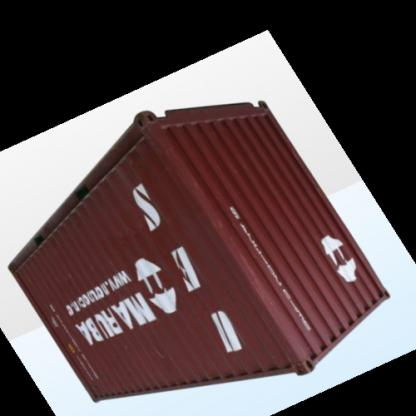Damage: (106, 218, 151, 255), (146, 334, 178, 372), (190, 288, 216, 320)
